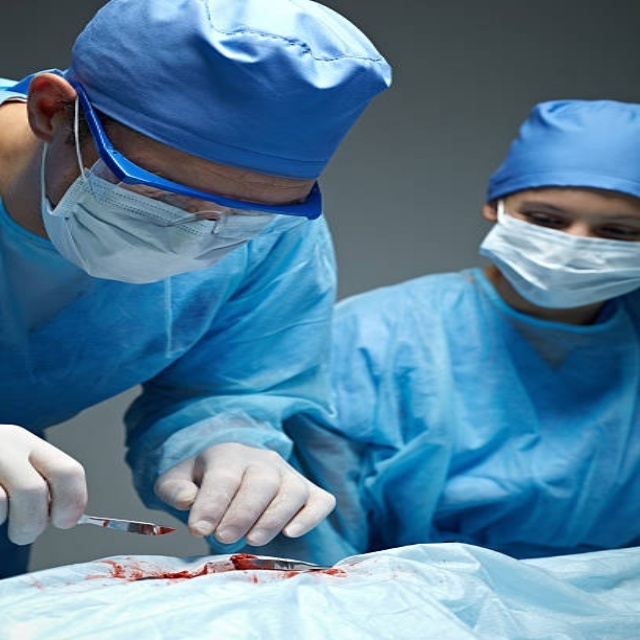Gafas: (64, 74, 323, 244)
Guantes: (154, 432, 344, 549), (2, 419, 93, 546)
Mascara: (38, 97, 290, 284), (478, 197, 640, 311)
Sin_gafas: (511, 192, 637, 249)
